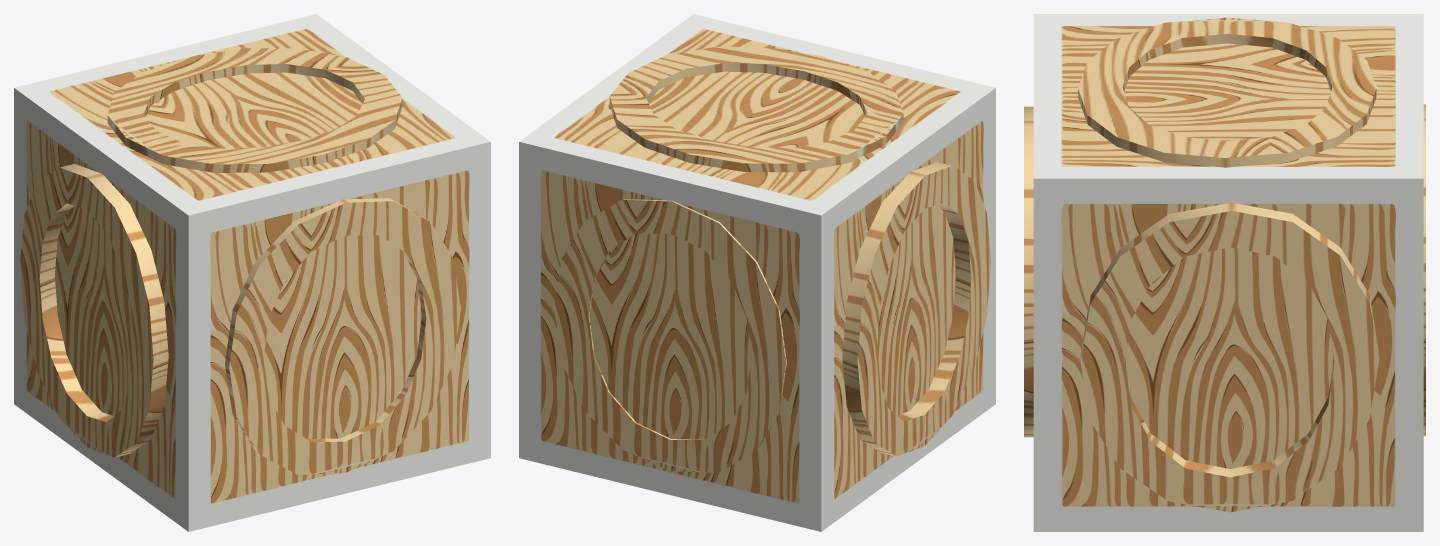
The model's file is Block O.fbx.
The picture shows the model from 3 angles, left to right: view 1: azimuth 30°, elevation 25°; view 2: azimuth 150°, elevation 25°; view 3: azimuth 270°, elevation 25°; orthographic projection. The views are drawn at different scales.
Visible parts, largest first — view 1: Box, FRONT, LEFT, TOP; view 2: Box, BACK, LEFT, TOP; view 3: Box, RIGHT, TOP, FRONT, BACK.
Boxes of the visible parts, x1=… form: Box: x1=14, y1=14, x2=490, y2=531; FRONT: x1=225, y1=198, x2=460, y2=474; LEFT: x1=20, y1=164, x2=168, y2=457; TOP: x1=107, y1=48, x2=402, y2=172; Box: x1=519, y1=14, x2=995, y2=531; BACK: x1=554, y1=199, x2=786, y2=472; LEFT: x1=842, y1=162, x2=991, y2=456; TOP: x1=609, y1=47, x2=903, y2=172; Box: x1=1033, y1=14, x2=1423, y2=531; RIGHT: x1=1080, y1=202, x2=1379, y2=512; TOP: x1=1078, y1=17, x2=1376, y2=167; FRONT: x1=1024, y1=106, x2=1033, y2=437; BACK: x1=1423, y1=104, x2=1425, y2=436.
Bounding box in the file's own units: 1.1 × 1.04 × 1.03.
2 materials, 2 textured.
